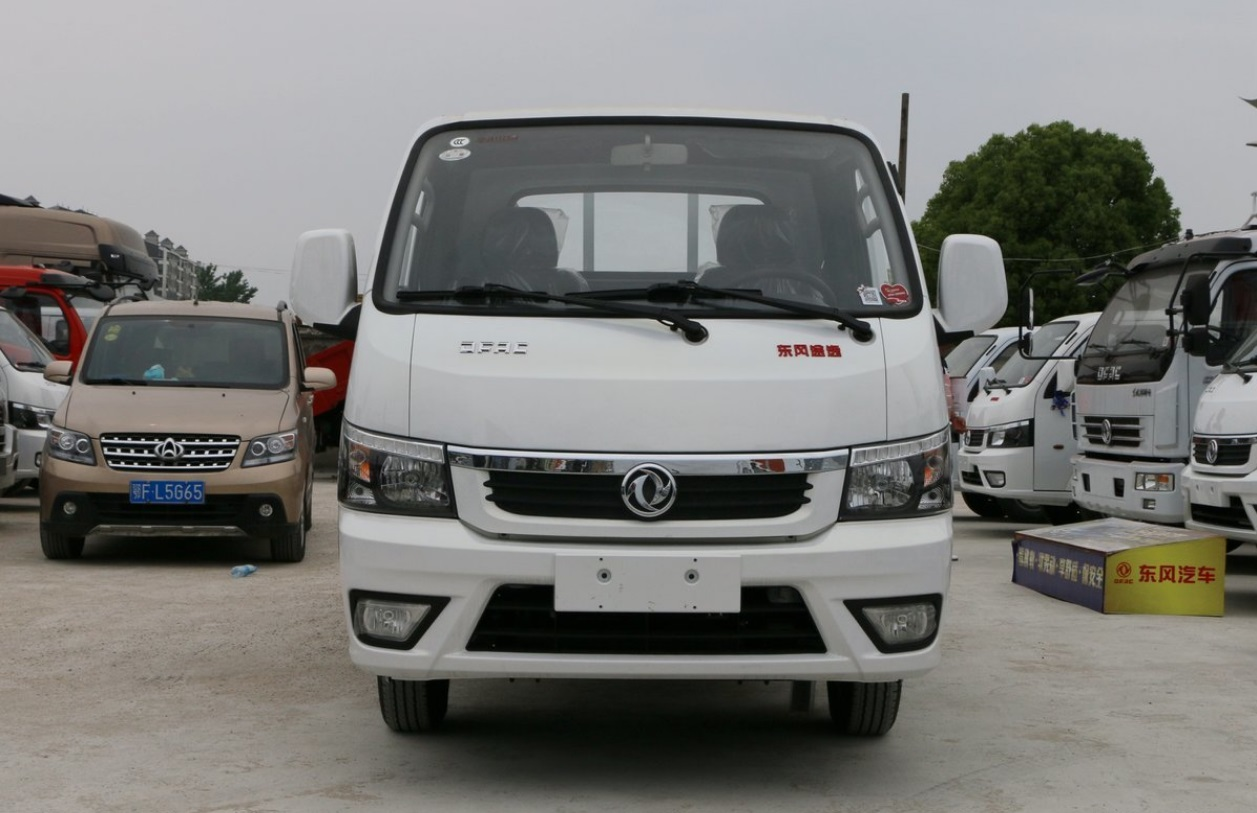truck: (285, 108, 1009, 744)
